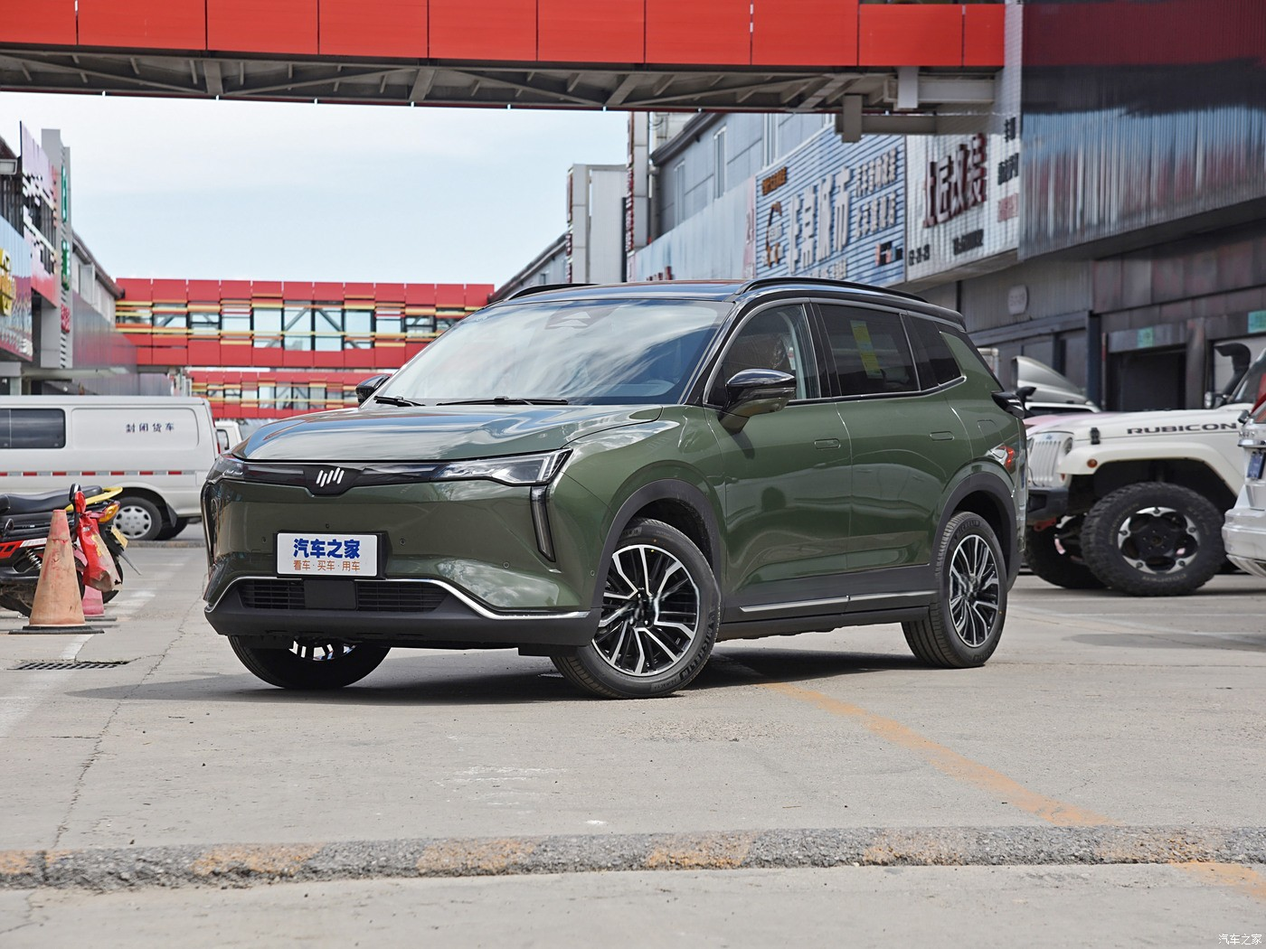WELTMEISTER: (316, 468, 344, 486)
